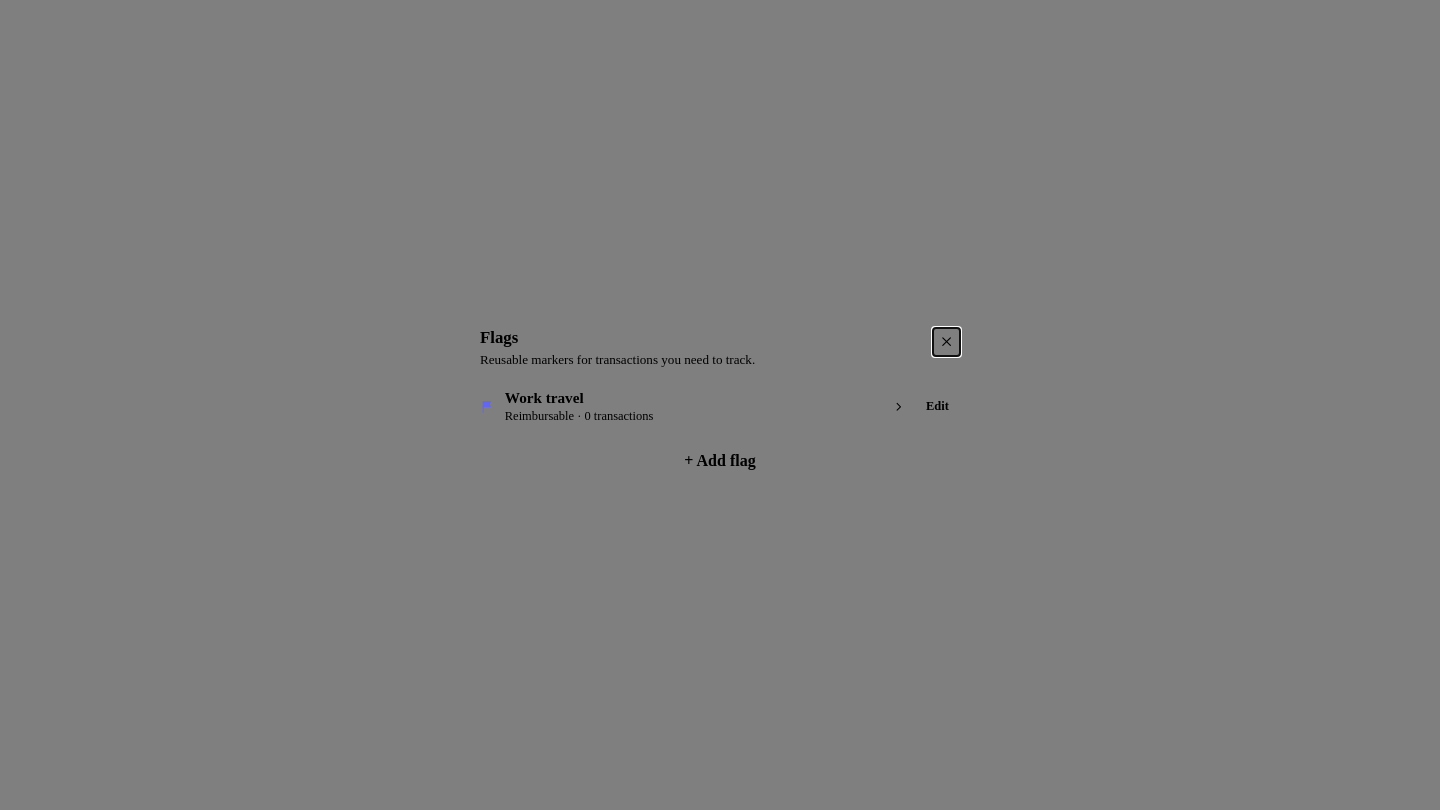
Test: FlagsModal — configuring an auto-label › opens the auto-label editor when the row (not Edit) is clicked
Click the button "Work travel Reimbursable · 0 transactions". click: (544, 398)
box: [480,389,905,424]
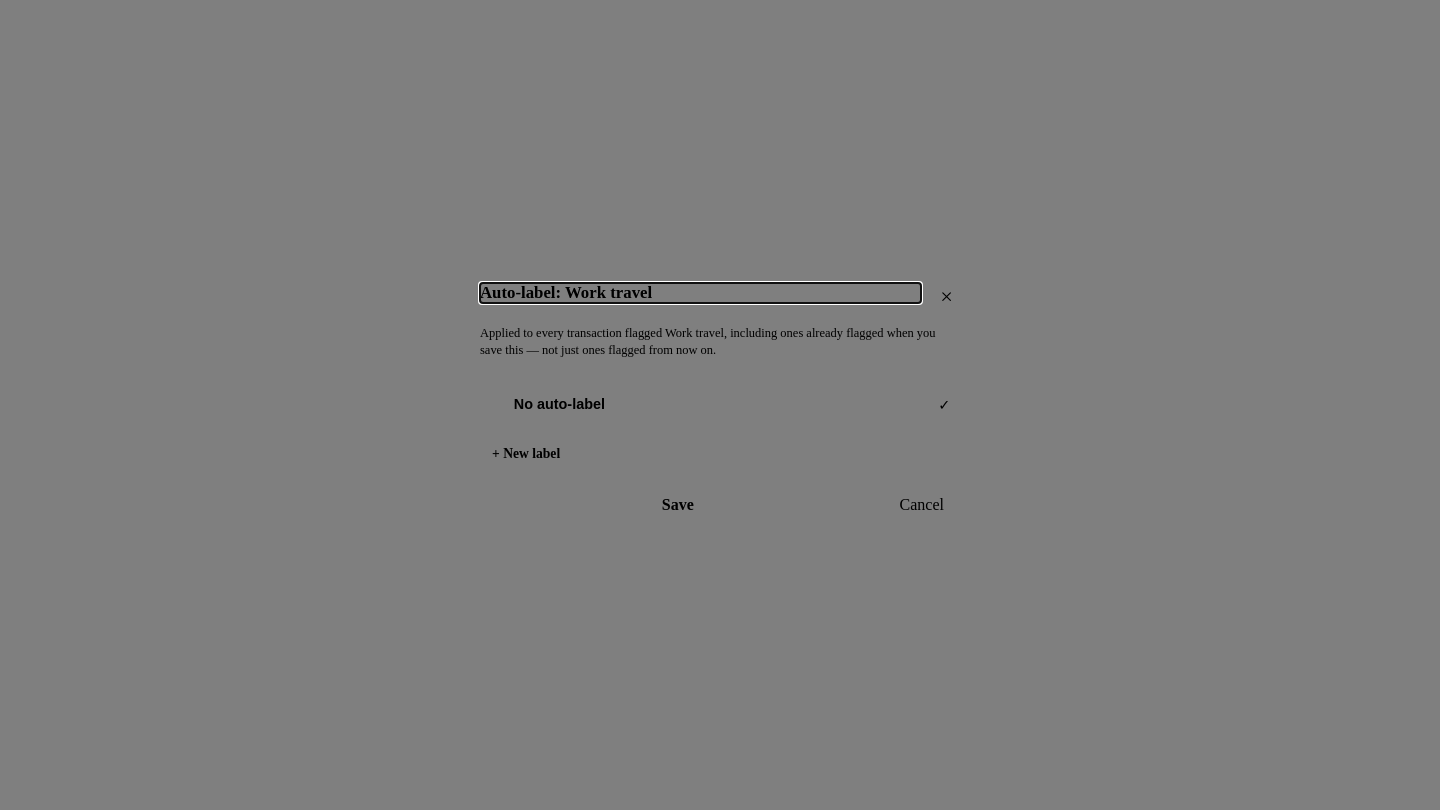
expect the text "Applied to every transaction flagged Work travel" is shown: met, box [480,325,960,360]
expect the button "No auto-label ✓" is shown: met, box [480,387,960,422]
